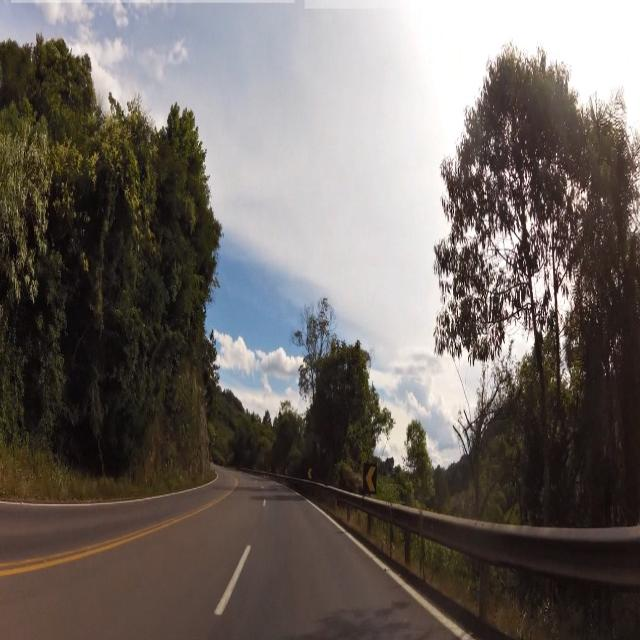Del: (360, 456, 380, 498), (307, 464, 315, 482)
